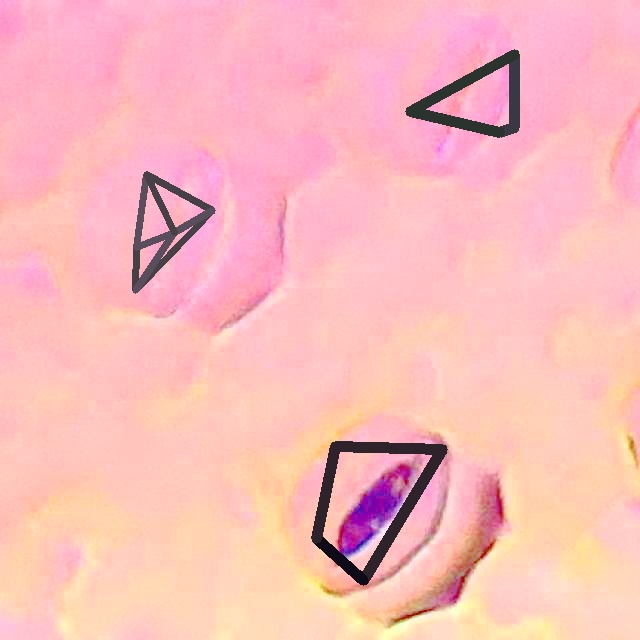open: (312, 442, 447, 585), (406, 50, 518, 137), (134, 172, 214, 293)
